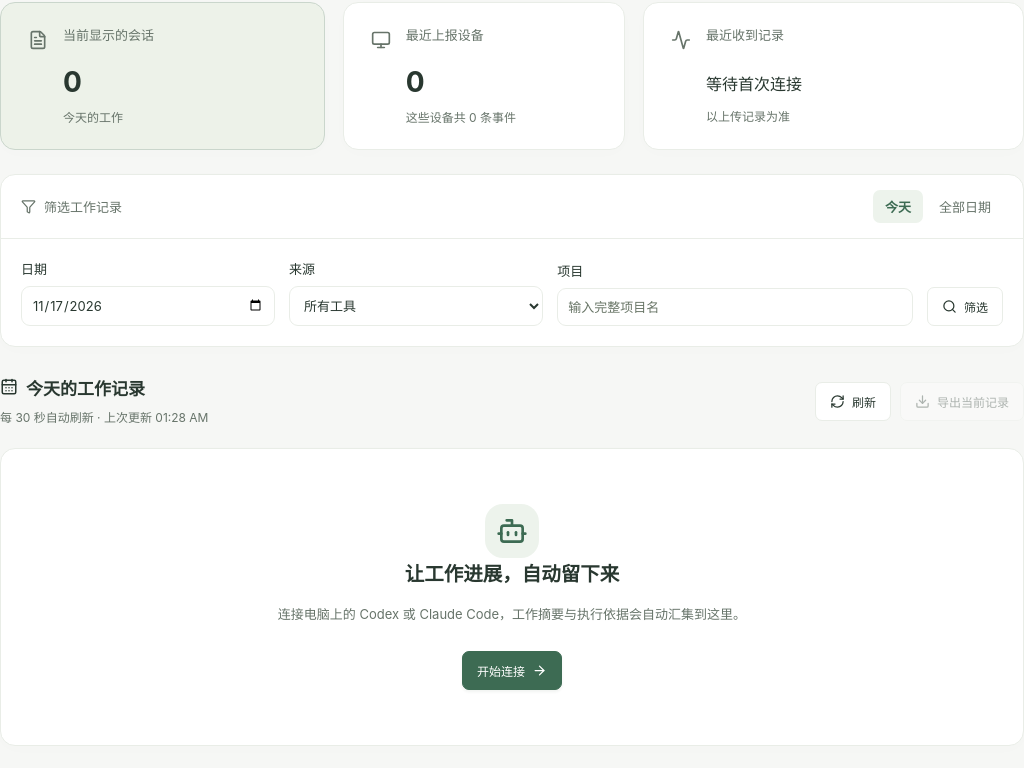
it: 关闭连接弹窗取消下载，迟到的响应不会下载凭据；重新打开仍可重试
(page scrolled)
Click the button "开始连接": {"x": 512, "y": 670} [462, 651, 562, 690]
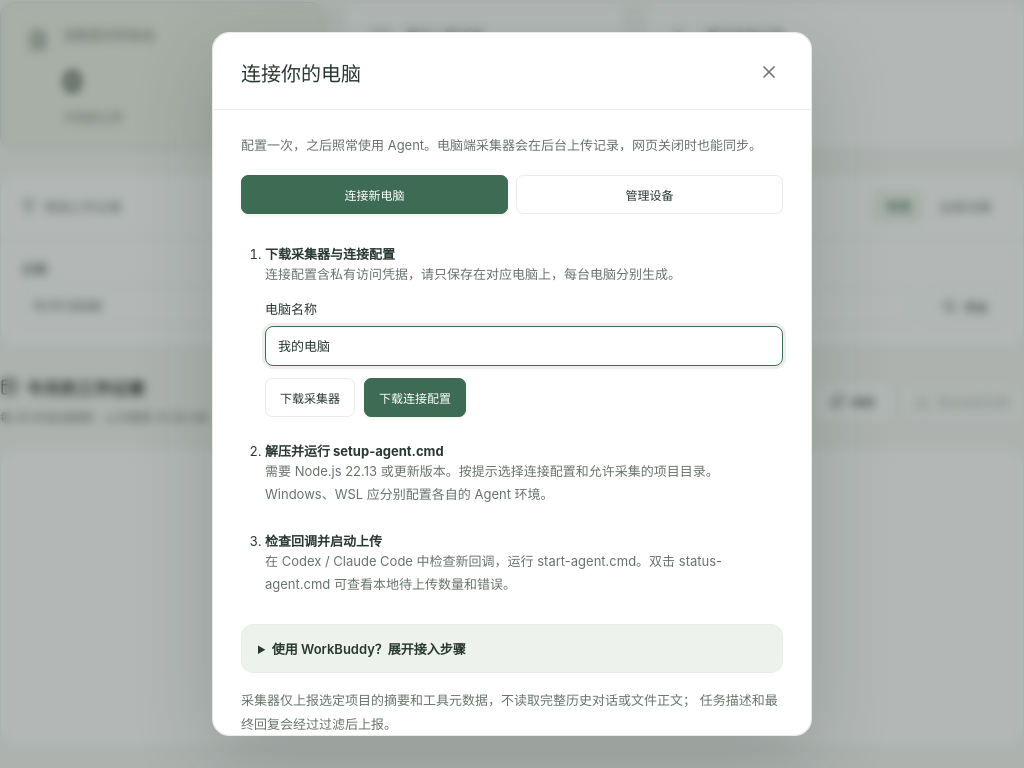
Click the button "下载连接配置": {"x": 415, "y": 397} [364, 378, 466, 417]
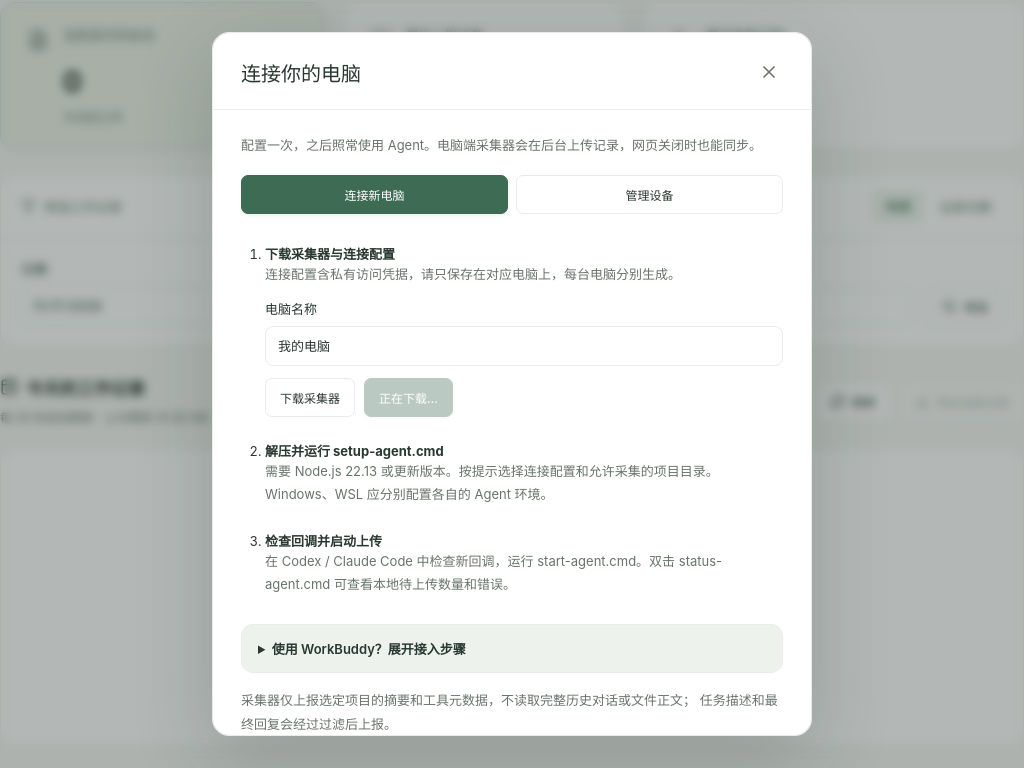
Expected: the button "正在下载…" is disabled, [364, 378, 453, 417]
Click the button named "关闭弹窗": {"x": 769, "y": 72} [755, 58, 783, 86]
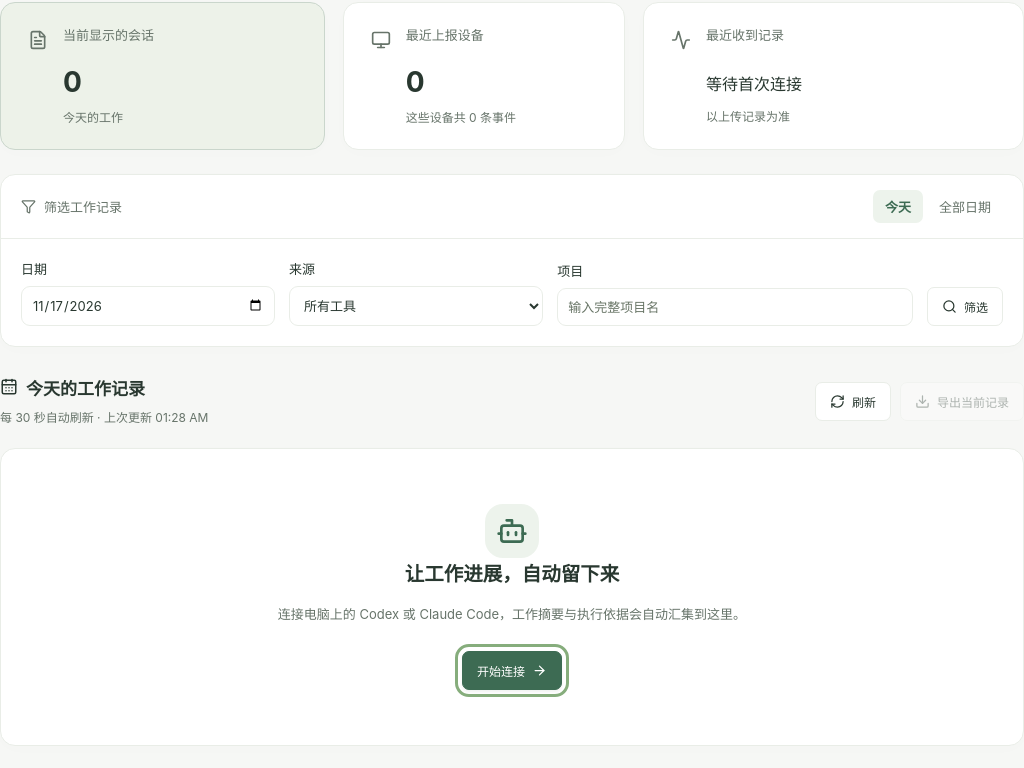
Click the button "开始连接": {"x": 512, "y": 670} [462, 651, 562, 690]
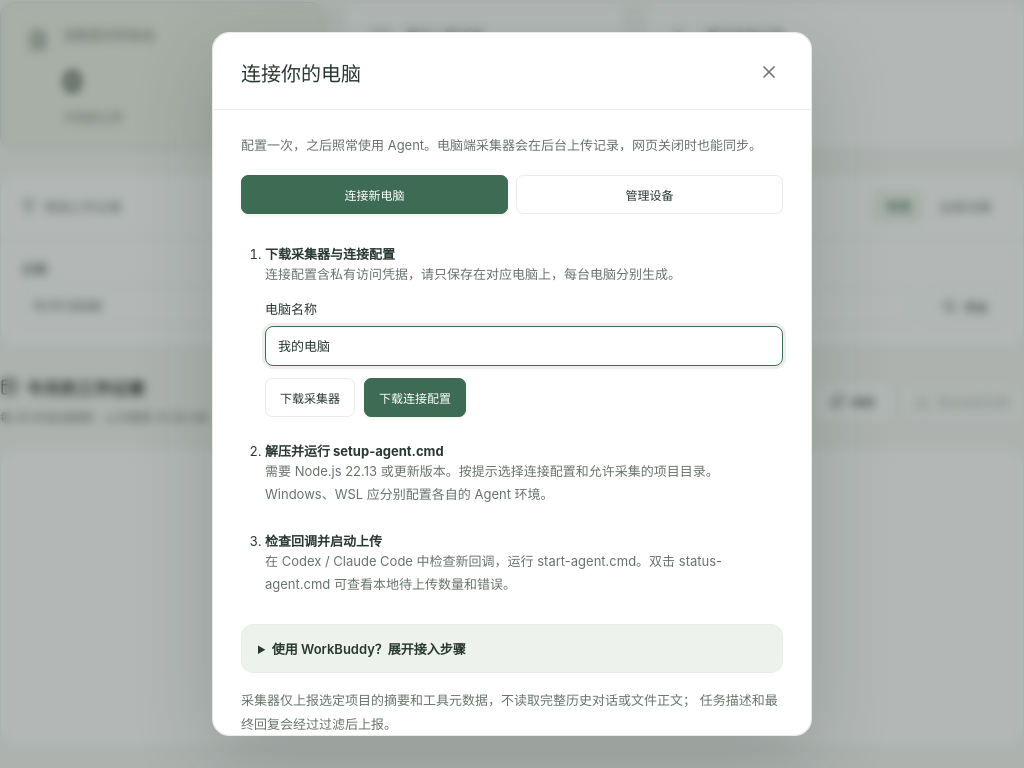
Expected: the button "下载连接配置" is enabled, [364, 378, 466, 417]
